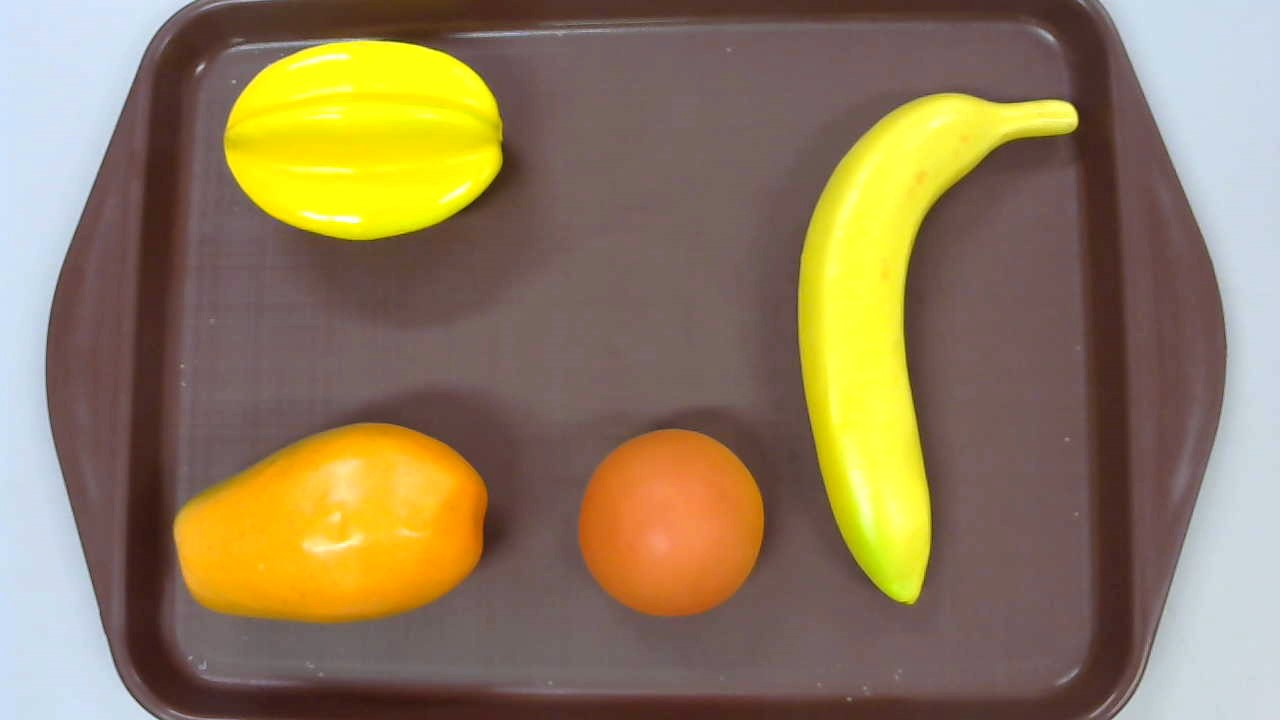banana: (796, 91, 1078, 606)
bun: (578, 427, 765, 617)
papya: (171, 422, 488, 623)
star fruit: (222, 40, 504, 242)
